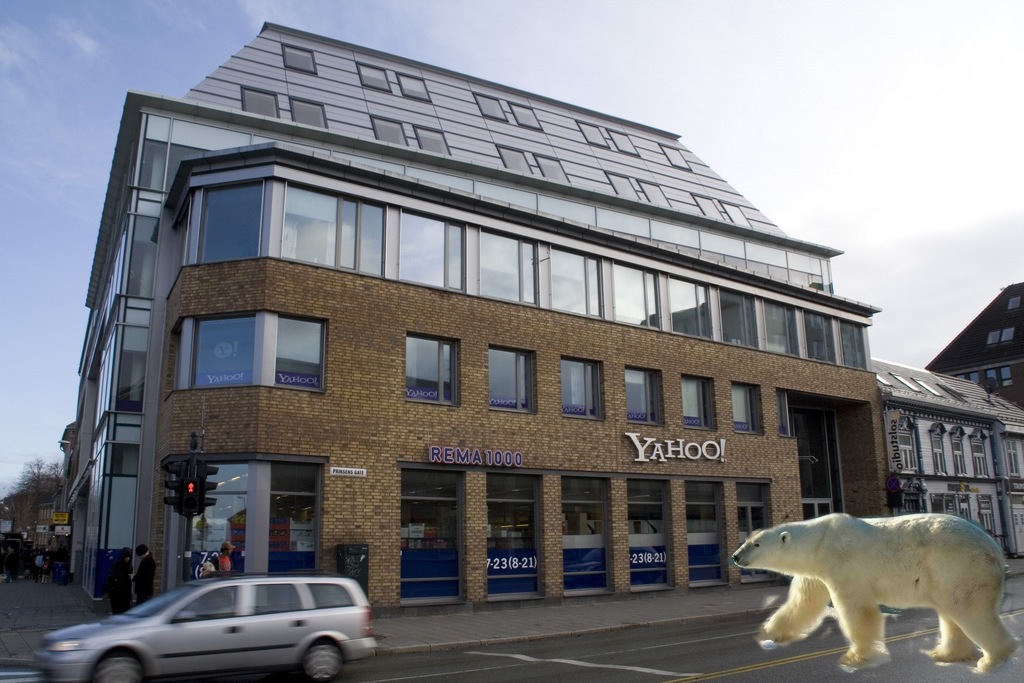Car: (53, 568, 371, 675), (0, 525, 44, 584)
